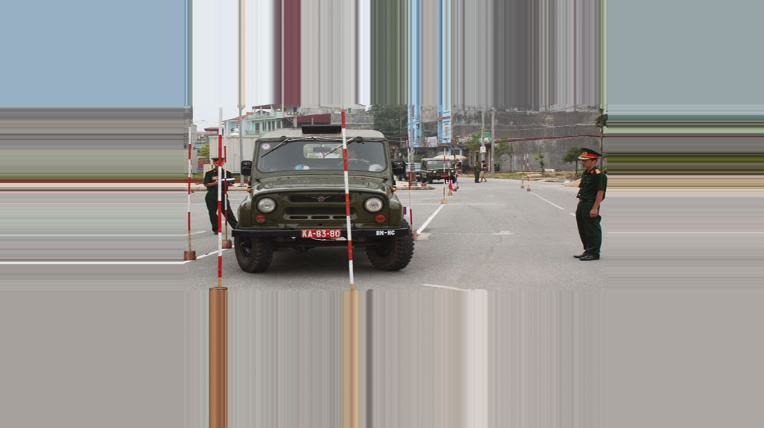plate: (295, 225, 343, 241)
